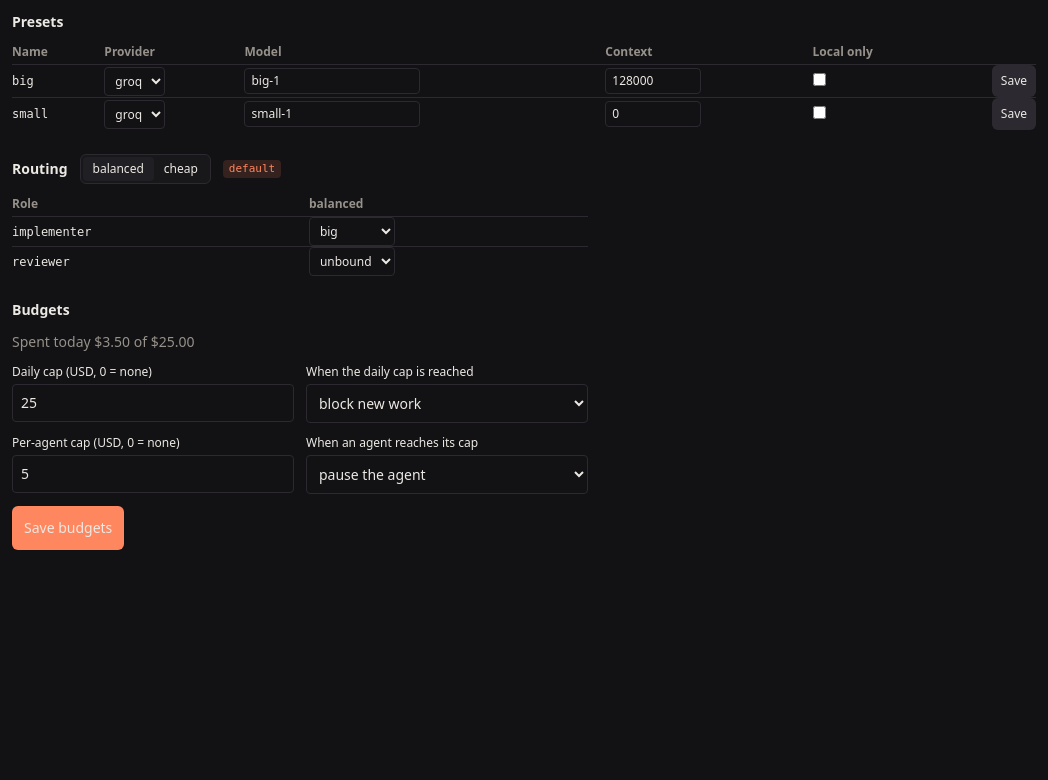
Test: Models › shows a failed save without losing the page
Check: the text "Spent today $3.50 of $25.00" is shown, box [12, 332, 194, 351]
Click the button "Save budgets" at (68, 528), box [12, 506, 124, 550]
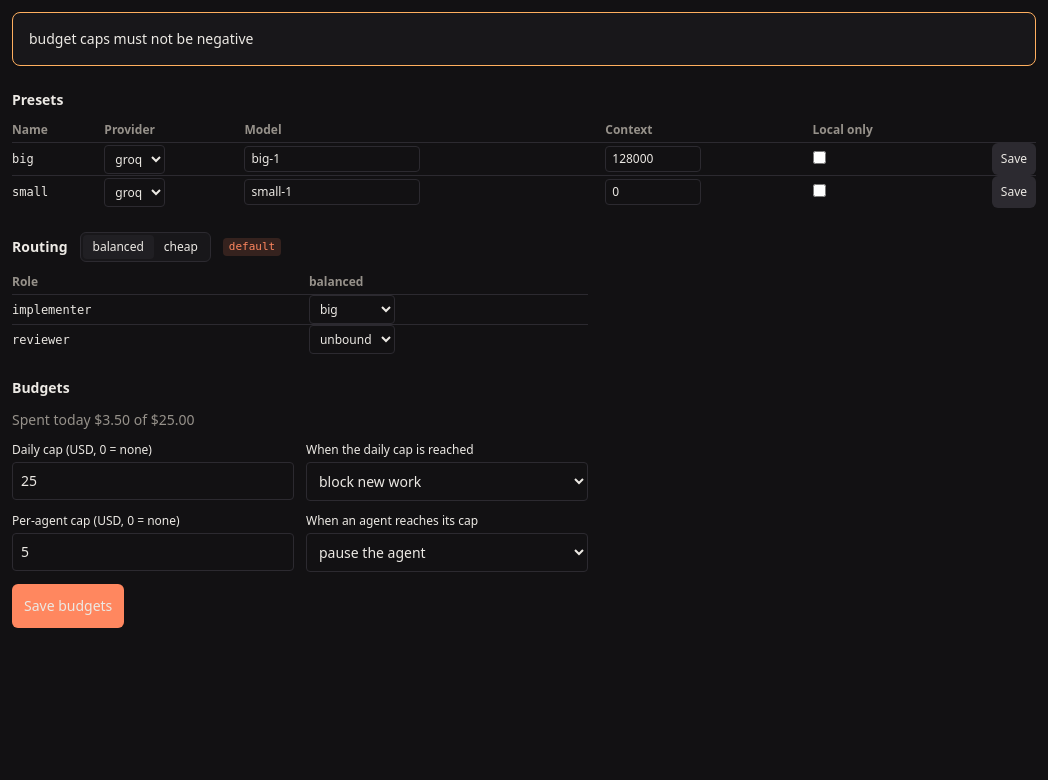
Check: the message shows "negative", box [29, 29, 253, 48]
